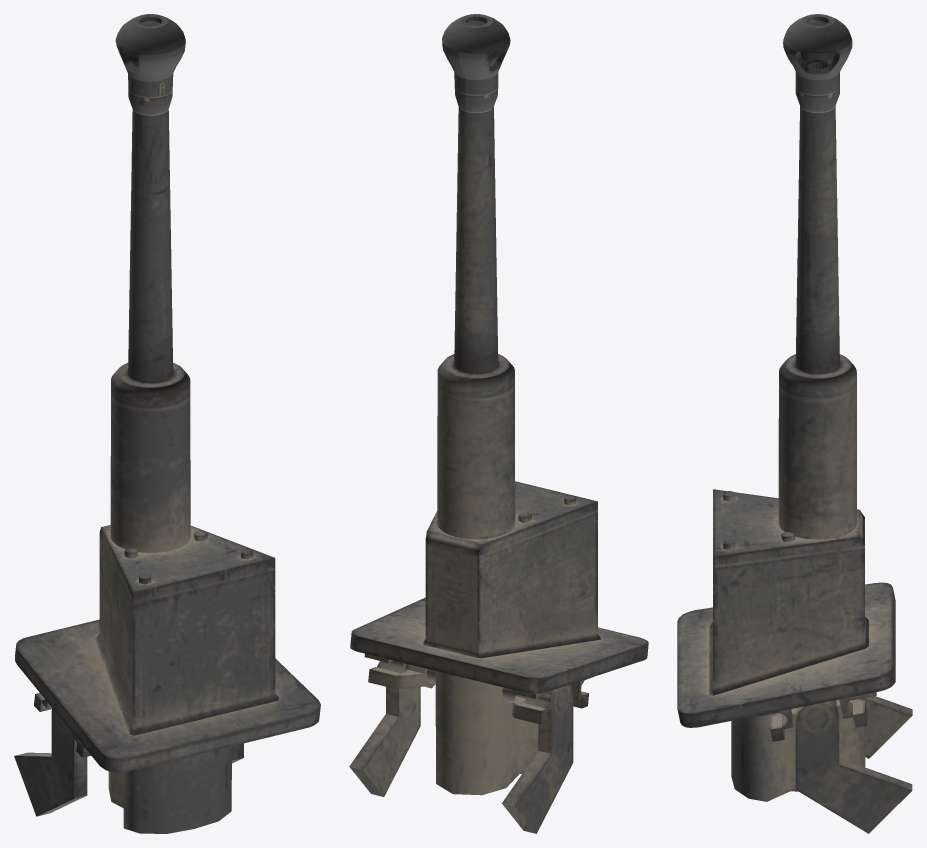
File: Gun_02.glb
3 views of the same model, side by side, from view 1: azimuth 30°, elevation 25°; view 2: azimuth 150°, elevation 25°; view 3: azimuth 270°, elevation 25° (orthographic). The views are drawn at different scales.
Visible parts, largest first — view 1: set_0_group_0; view 2: set_0_group_0; view 3: set_0_group_0.
Part boxes in pixels (left/top/right/bottom): set_0_group_0: left=14, top=14, right=320, bottom=833; set_0_group_0: left=349, top=14, right=648, bottom=833; set_0_group_0: left=677, top=14, right=912, bottom=833.
Size of the model in its own units: 0.8166 by 2.85 by 0.7856.
Materials: 1 (1 with a texture image).
